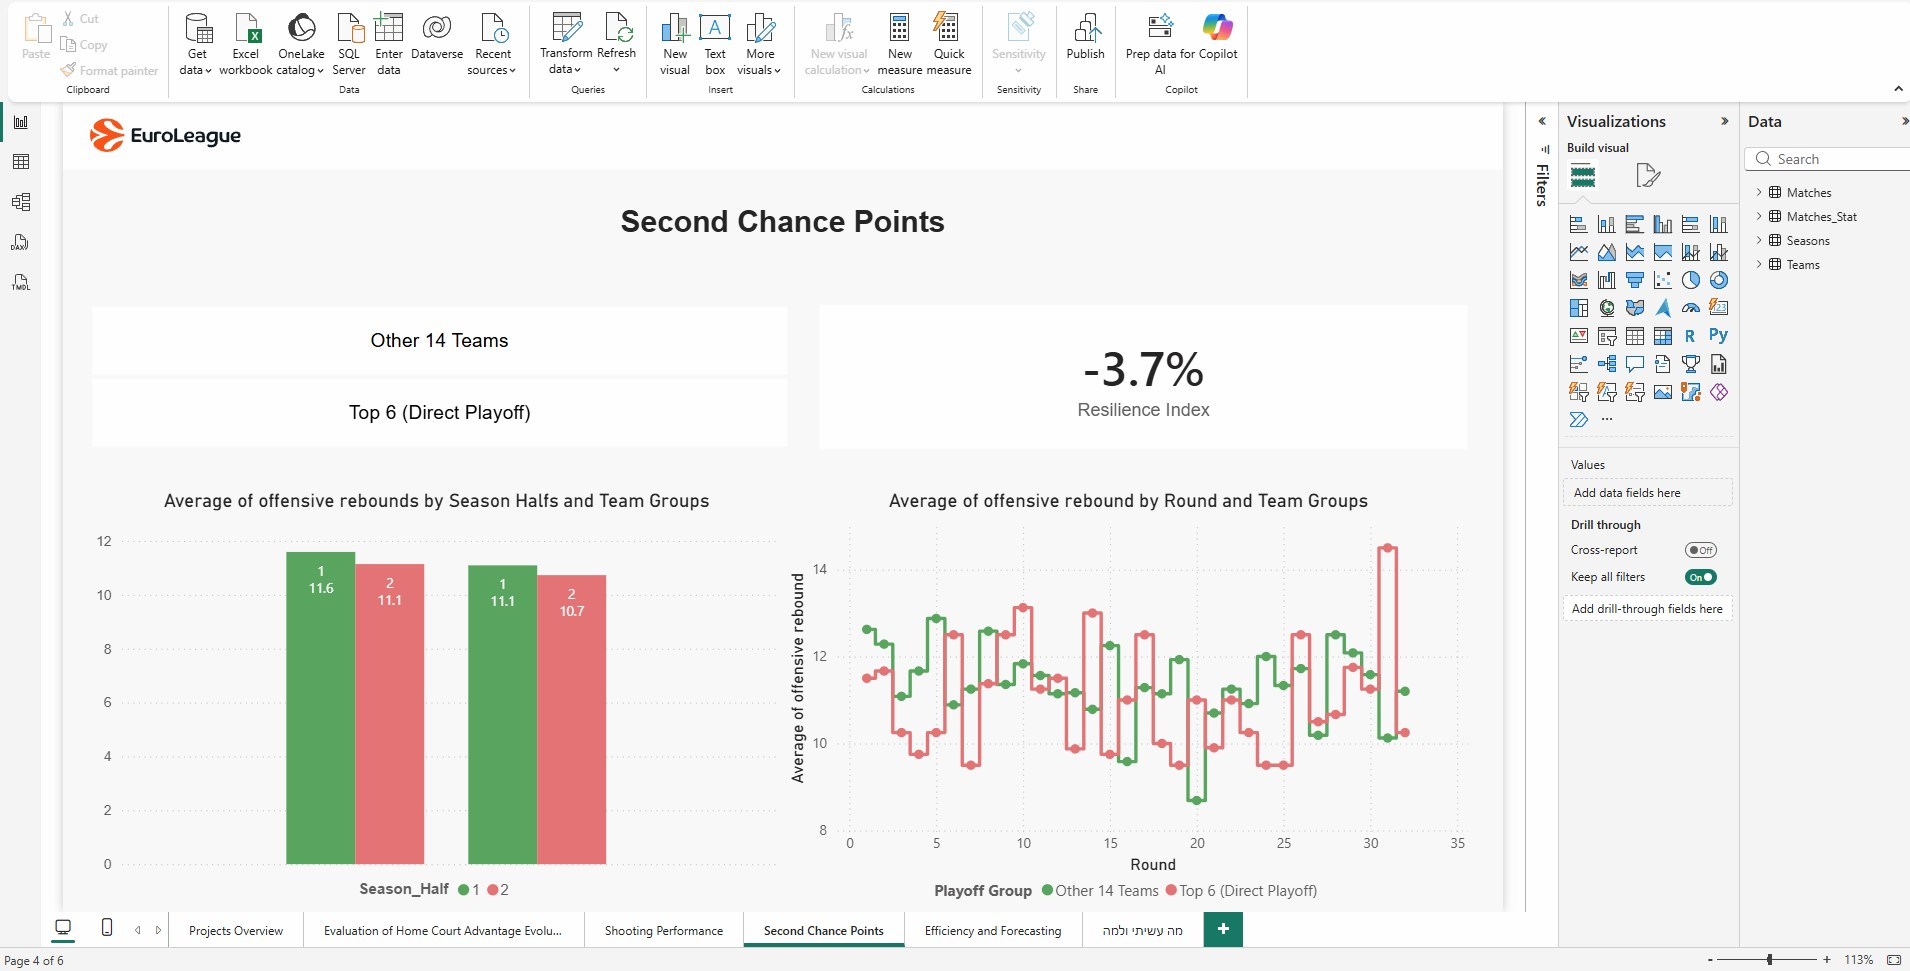

The dashboard page shown, as its layout file describes it:
{"tool":"powerbi","page":{"name":"Second Chance Points","canvas":[1280,720],"ordinal":4},"visuals":[{"type":"clusteredColumnChart","title":"Average of offensive rebounds by Season Halfs and Team Groups","fields":{"Category":["Matches.Playoff Group"],"Series":["Matches.Season_Half"],"Y":["Avg(Matches_Stat.offensive rebound)"]},"box":[23.8,344.3,616.2,375.8],"z":0},{"type":"lineChart","title":"Average of offensive rebound by Round and Team Groups","fields":{"Series":["Matches.Playoff Group"],"Category":["Matches.Round_ID"],"Y":["Avg(Matches_Stat.offensive rebound)"]},"box":[640,344.3,614.2,375.8],"z":1000},{"type":"cardVisual","fields":{"Data":["Matches_Stat.ORB_Growth_%"]},"box":[667.7,175.5,586.6,138.3],"z":2000},{"type":"slicer","fields":{"Values":["Matches.Playoff Group"]},"box":[0,175.5,667.7,138.3],"z":3000},{"type":"shape","box":[0,0,1280,60],"z":4000},{"type":"image","box":[24.1,12.5,134.5,34],"z":5000},{"type":"textbox","box":[0,89.6,1280,41.5],"z":6000}]}

Visuals, with their boxes on the page's 1280x720 design canvas (x1, y1, x2, y2). These are canvas units, not pixel positions in the 1910x971 screenshot, which may show the page scaled, cropped or inside an application window:
"Average of offensive rebounds by Season Halfs and Team Groups" clusteredColumnChart: locate(24, 344, 640, 720)
"Average of offensive rebound by Round and Team Groups" lineChart: locate(640, 344, 1254, 720)
cardVisual - Matches_Stat.ORB_Growth_%: locate(668, 176, 1254, 314)
slicer - Matches.Playoff Group: locate(0, 176, 668, 314)
shape: locate(0, 0, 1280, 60)
image: locate(24, 12, 159, 46)
textbox: locate(0, 90, 1280, 131)
